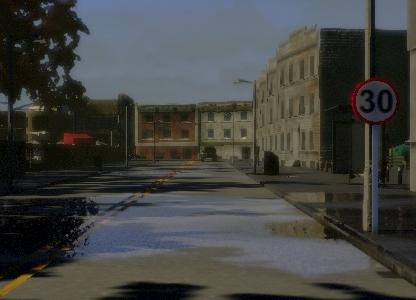Speed_30: (365, 71, 416, 128)
